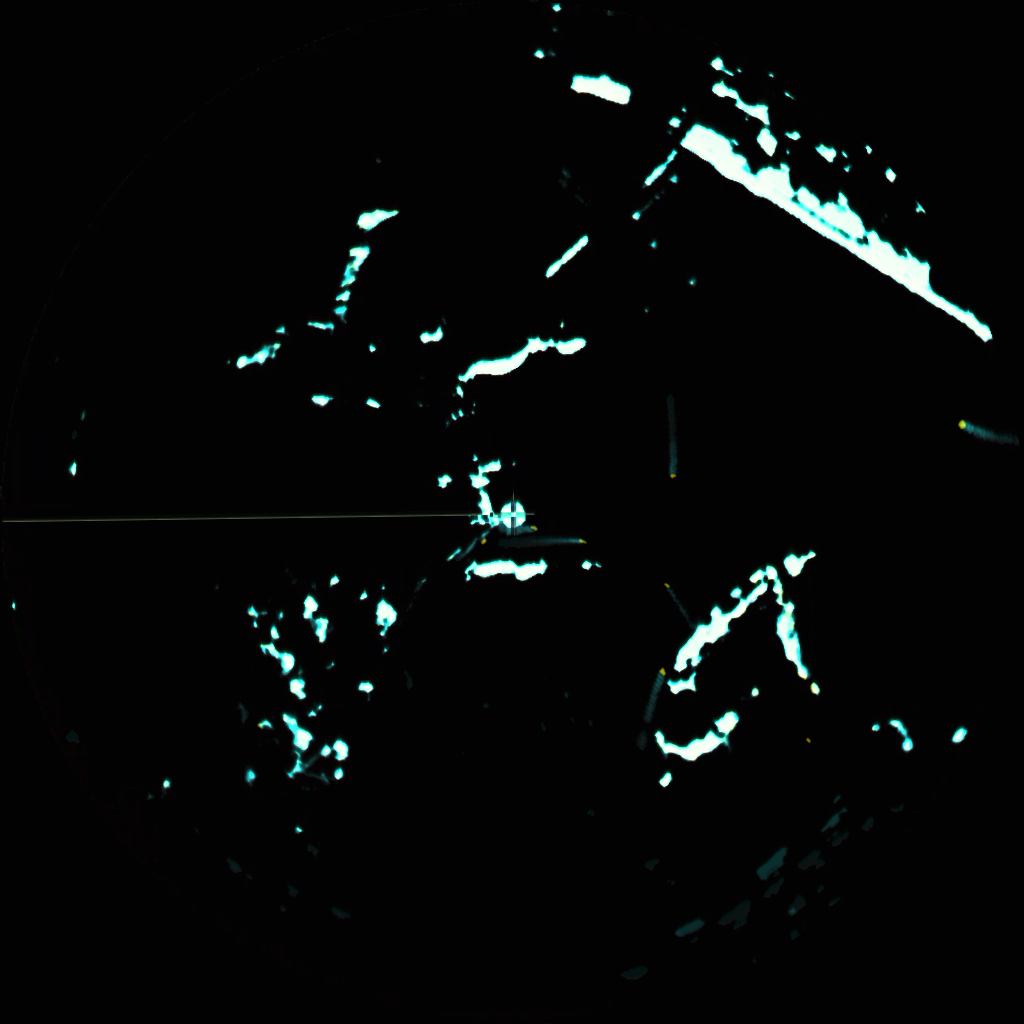B: (953, 415, 1000, 444), (644, 661, 668, 716), (660, 575, 686, 616), (665, 431, 680, 481), (539, 533, 588, 547), (478, 532, 489, 548), (523, 524, 538, 534)
